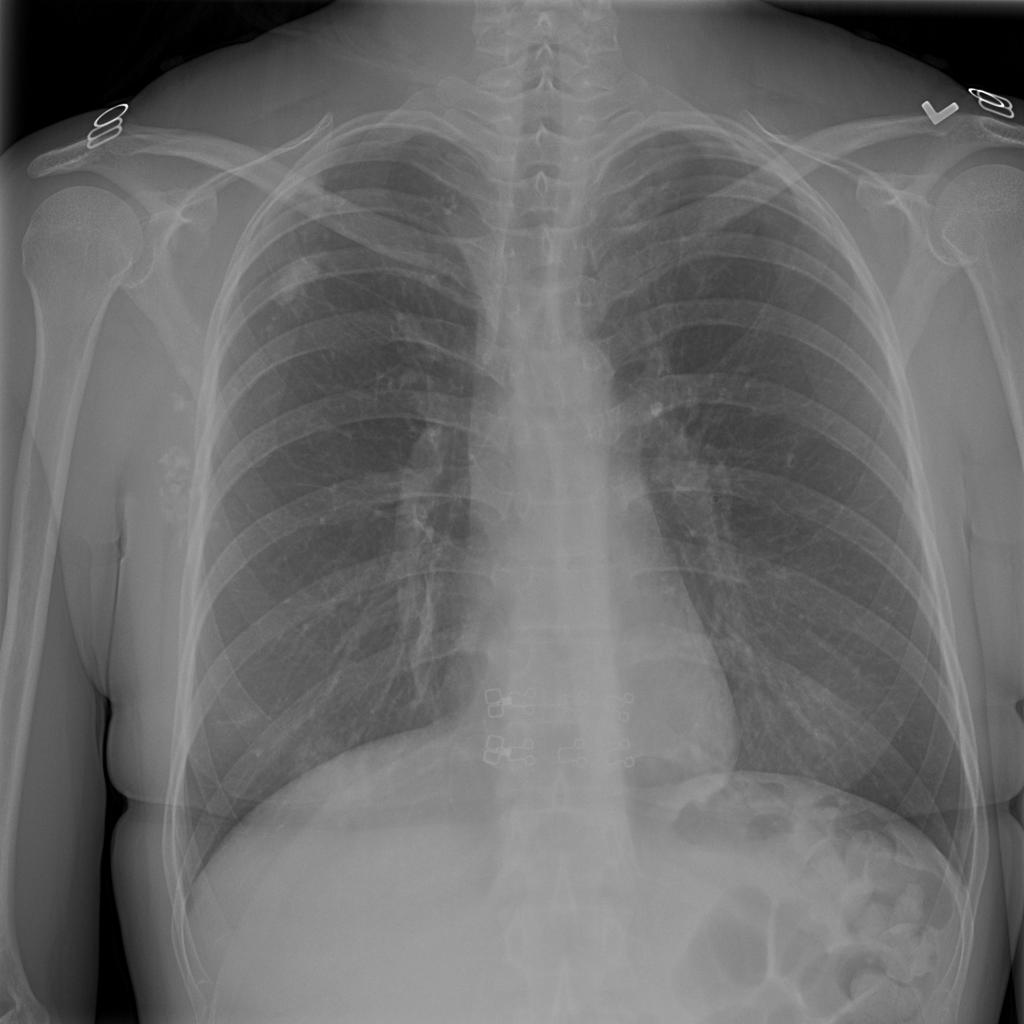nodule: (280, 726, 365, 794)
